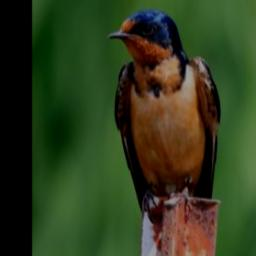Swallow: (107, 8, 222, 227)
